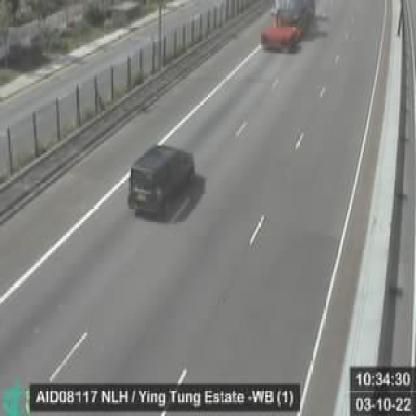Car: (128, 146, 192, 211)
